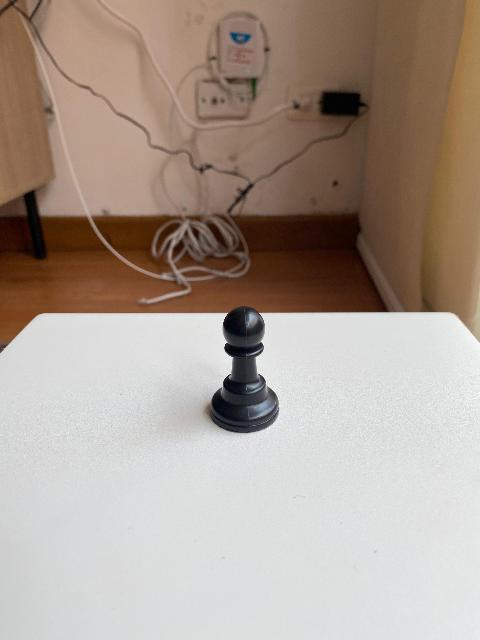black-pawn: (209, 304, 280, 434)
